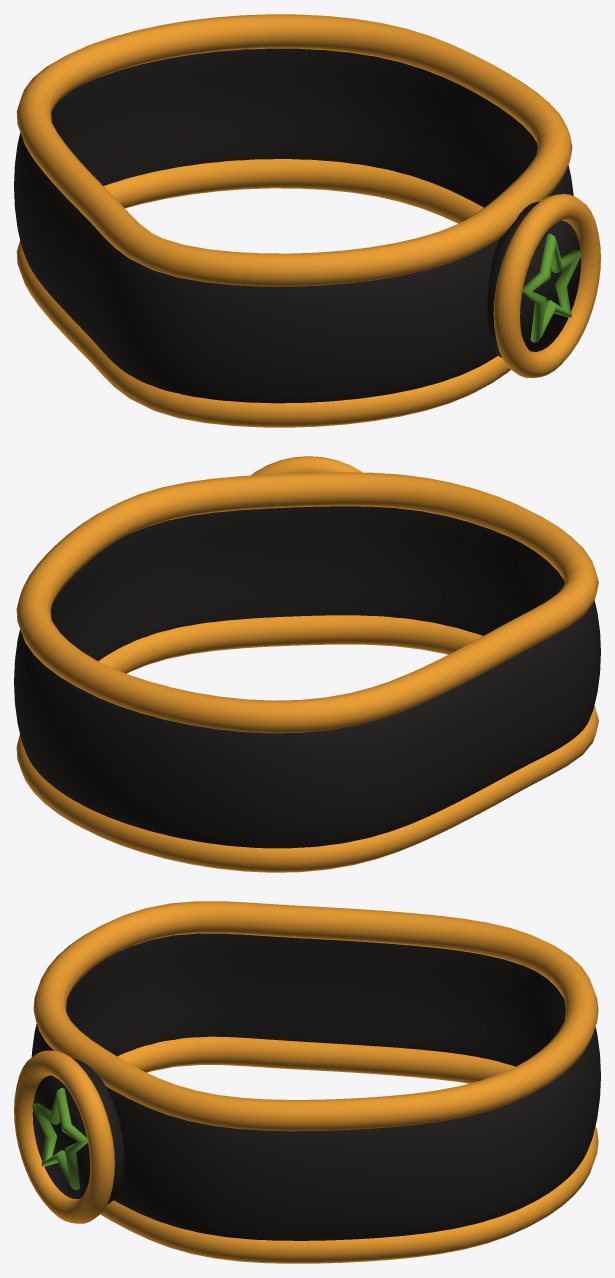
File: brazalete.glb
3 renders of one model, top to bottom at view 1: azimuth 30°, elevation 25°; view 2: azimuth 150°, elevation 25°; view 3: azimuth 270°, elevation 25°, orthographic. The views are drawn at different scales.
Visible parts, largest first — view 1: brazalete; view 2: brazalete; view 3: brazalete.
Part boxes in pixels (x1=…): brazalete: x1=14, y1=14, x2=600, y2=427; brazalete: x1=14, y1=456, x2=600, y2=872; brazalete: x1=14, y1=901, x2=600, y2=1263.
Bounding box in the file's own units: 0.2804 × 0.098 × 0.3237.
